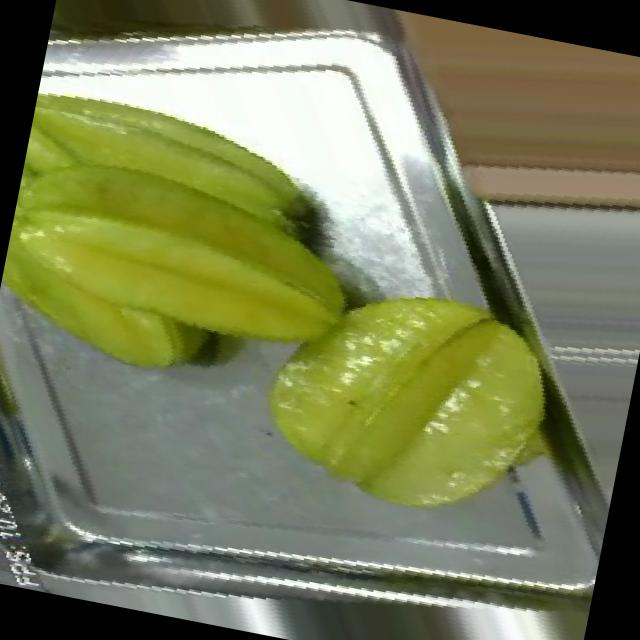fruit: (0, 25, 367, 442), (203, 220, 600, 556), (326, 3, 640, 275)
